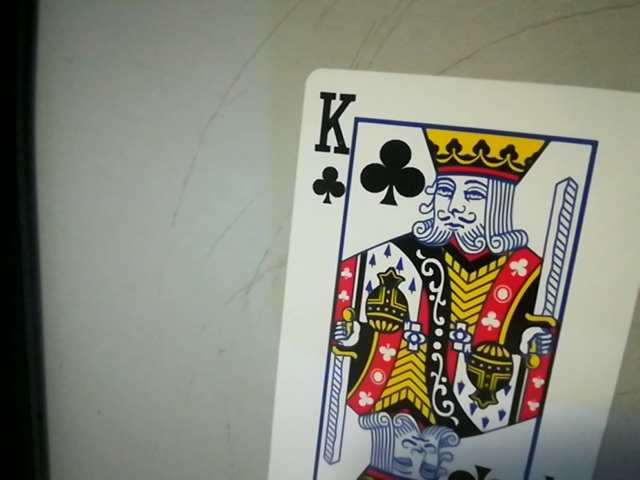mh k: (306, 83, 356, 204)
